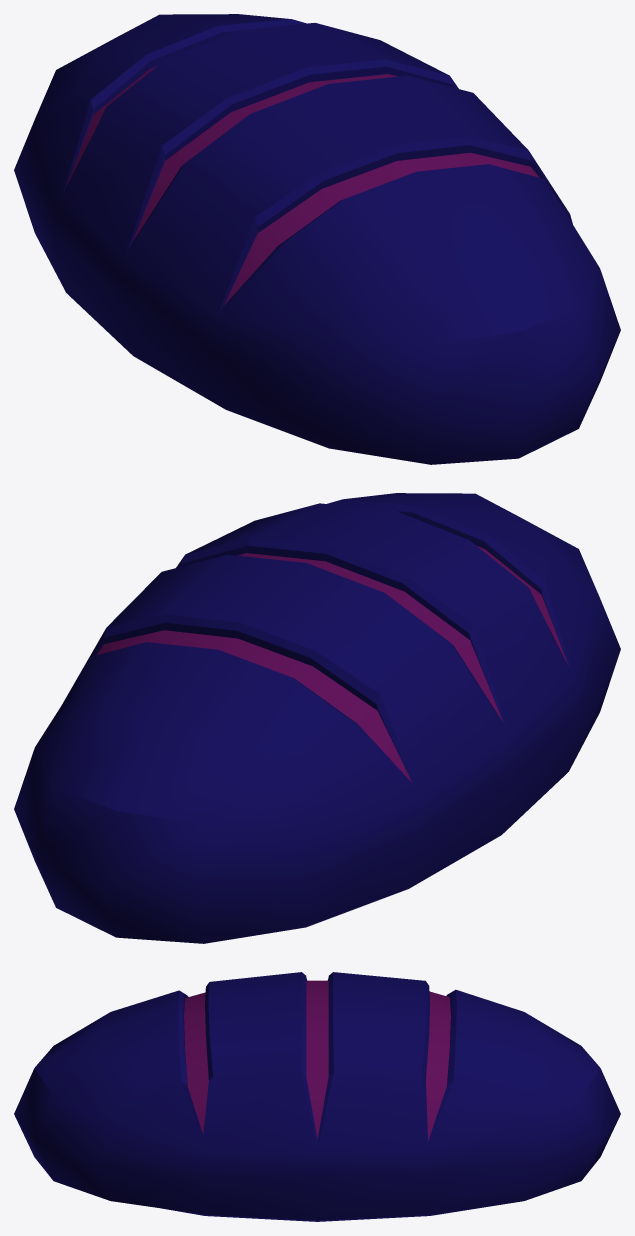
File: MESH_Bread.fbx
The picture shows the model from 3 angles, top to bottom: view 1: azimuth 30°, elevation 25°; view 2: azimuth 150°, elevation 25°; view 3: azimuth 270°, elevation 25°; orthographic projection. The views are drawn at different scales.
Parts seen in each view (by area): view 1: MESH_Bread; view 2: MESH_Bread; view 3: MESH_Bread.
Boxes of the visible parts, x1=… form: MESH_Bread: x1=14, y1=14, x2=620, y2=464; MESH_Bread: x1=14, y1=493, x2=620, y2=943; MESH_Bread: x1=14, y1=972, x2=620, y2=1221.
Bounding box in the file's own units: 0.1498 × 0.0996 × 0.2835.
